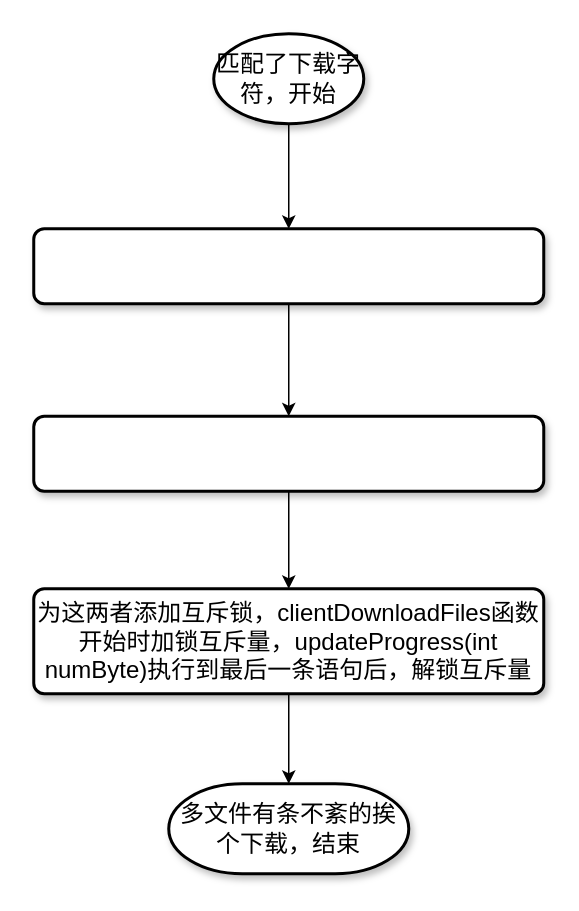
This 579x911 diagram has some shape labels left out. Here are the shapes that lost their labels. From the top down, the centre of each, then its label:
[290,267]: 创建线程，用来专门处理clientDownloadFiles函数
[290,455]: 创建线程，用来专门处理updateProgress(int numByte)函数
